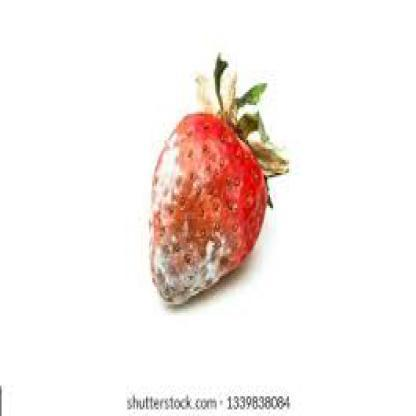strawberry_rotten: (133, 44, 311, 316)
